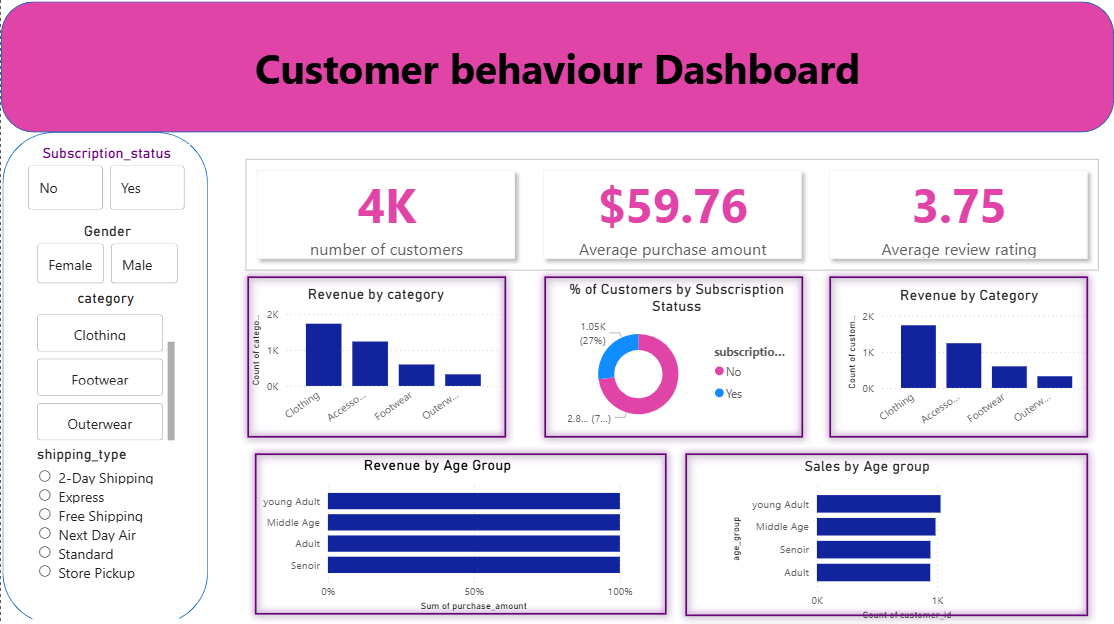

What the dashboard file says about the page in this screenshot:
{"tool":"powerbi","page":{"name":"Page 1","canvas":[1280,720],"ordinal":0},"visuals":[{"type":"cardVisual","fields":{"Data":["customer_behaviour_data.number of customers","customer_behaviour_data.Average purchase amount","customer_behaviour_data.Average review rating"]},"box":[263.8,169,1015.5,162.1],"z":0},{"type":"donutChart","title":"% of Customers by  Subscrisption Statuss","fields":{"Category":["customer_behaviour_data.subscription_status"],"Y":["CountNonNull(customer_behaviour_data.subscription_status)"]},"box":[639.7,325.9,274.1,175.9],"z":1000},{"type":"clusteredColumnChart","title":"Revenue by category","fields":{"Category":["customer_behaviour_data.category"],"Y":["CountNonNull(customer_behaviour_data.category)"]},"box":[282.8,331,296.6,170.7],"z":2000},{"type":"shape","box":[0,5.8,1279.4,150.5],"z":3000},{"type":"shape","box":[1.7,154.5,236.2,565.5],"z":4000},{"type":"advancedSlicerVisual","title":"Subscription_status","fields":{"Values":["customer_behaviour_data.subscription_status"]},"box":[25.9,169,191.4,81],"z":5000},{"type":"advancedSlicerVisual","title":"Gender","fields":{"Values":["customer_behaviour_data.gender"]},"box":[36.2,258.6,172.4,75.9],"z":6000},{"type":"clusteredColumnChart","title":"Revenue by Category","fields":{"Category":["customer_behaviour_data.category"],"Y":["Count(customer_behaviour_data.customer_id)"]},"box":[967.2,332.8,291.4,171.3],"z":7000},{"type":"hundredPercentStackedBarChart","title":"Revenue by Age Group","fields":{"Category":["customer_behaviour_data.age_group"],"Y":["Sum(customer_behaviour_data.purchase_amount)"]},"box":[272.4,527.6,458.6,182.8],"z":8000},{"type":"advancedSlicerVisual","fields":{"Values":["customer_behaviour_data.category"]},"box":[36.2,336.2,169,175.9],"z":9000},{"type":"listSlicer","fields":{"Values":["customer_behaviour_data.shipping_type"]},"box":[36.2,515.5,169,205.2],"z":10000},{"type":"clusteredBarChart","title":"Sales by Age group","fields":{"Category":["customer_behaviour_data.age_group"],"Y":["Count(customer_behaviour_data.customer_id)"]},"box":[834.5,529.3,322.4,191.4],"z":11000},{"type":"shape","box":[274.1,312.1,315.5,203.4],"z":12000},{"type":"shape","box":[615.5,312.1,315.5,203.4],"z":13000},{"type":"shape","box":[943.1,312.1,315.5,203.4],"z":14000},{"type":"shape","box":[282.8,515.5,491.4,203.4],"z":15000},{"type":"shape","box":[777.6,515.5,481,205.2],"z":16000}]}

Visuals, with their boxes in screenshot pixels (x1, y1, x2, y2), scaled from the page's 1280x720 canvas onto the 1114x624 screenshot:
cardVisual - customer_behaviour_data.number of customers x customer_behaviour_data.Average purchase amount: l=230, t=146, r=1113, b=287
"% of Customers by  Subscrisption Statuss" donutChart: l=557, t=282, r=795, b=435
"Revenue by category" clusteredColumnChart: l=246, t=287, r=504, b=435
shape: l=0, t=5, r=1113, b=135
shape: l=1, t=134, r=207, b=623
"Subscription_status" advancedSlicerVisual: l=23, t=146, r=189, b=217
"Gender" advancedSlicerVisual: l=32, t=224, r=182, b=290
"Revenue by Category" clusteredColumnChart: l=842, t=288, r=1095, b=437
"Revenue by Age Group" hundredPercentStackedBarChart: l=237, t=457, r=636, b=616
advancedSlicerVisual - customer_behaviour_data.category: l=32, t=291, r=179, b=444
listSlicer - customer_behaviour_data.shipping_type: l=32, t=447, r=179, b=623
"Sales by Age group" clusteredBarChart: l=726, t=459, r=1007, b=623
shape: l=239, t=270, r=513, b=447
shape: l=536, t=270, r=810, b=447
shape: l=821, t=270, r=1095, b=447
shape: l=246, t=447, r=674, b=623
shape: l=677, t=447, r=1095, b=623
